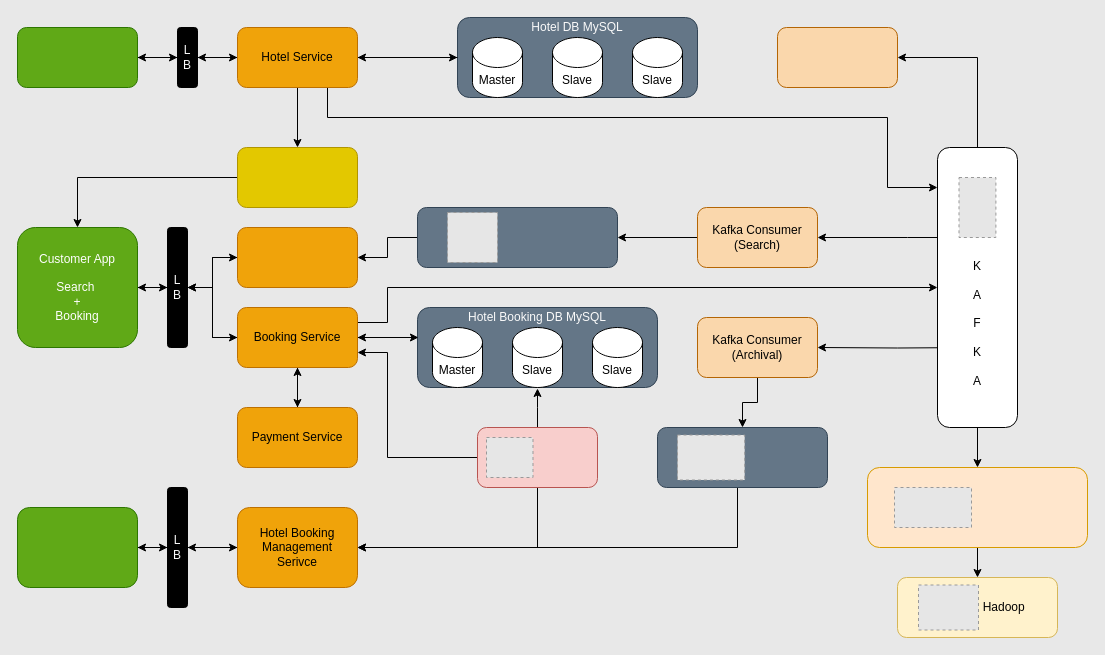
Some shapes in this 1105 by 655 pixel diagram are drawn without their labels. Grey dashed boxes stand in for pictures. The shapes that lost their labels are listed below. From the top down, each one's box as (x1, y1, x2, y2) in pixels, then its label:
(16, 26, 138, 88): Hotel Manager App
(776, 26, 898, 88): Kafka Consumer (Notification)
(236, 146, 358, 208): Content Distributed Network
(236, 226, 358, 288): Search Service
(416, 206, 618, 268): Elastic Search
(476, 426, 598, 488): Redis
(656, 426, 828, 488): Casandra
(866, 466, 1088, 548): Aparch Spark Streaming Service
(16, 506, 138, 588): View Booking (Customer/ Manager)
